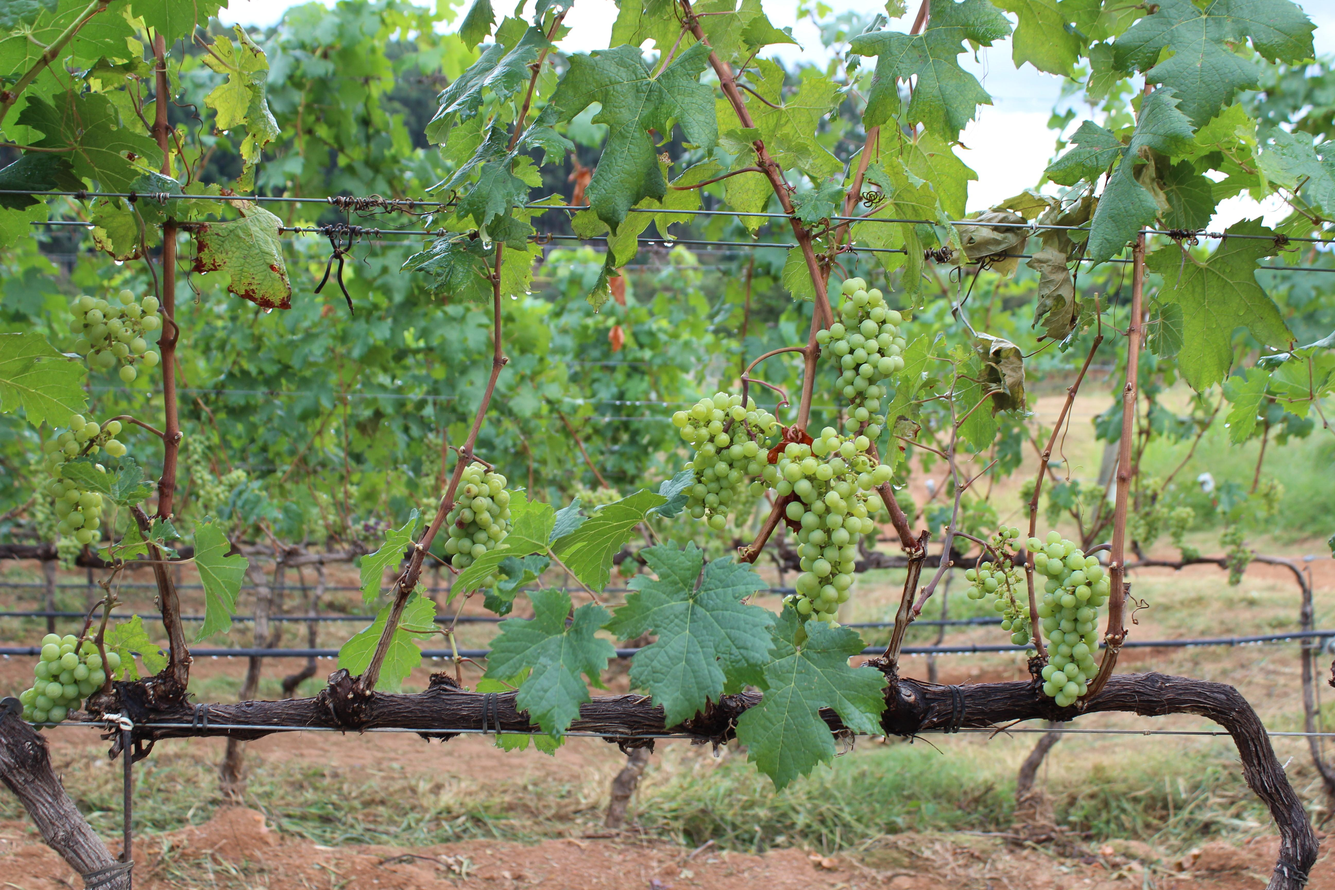leaf: (551, 44, 717, 232), (607, 543, 774, 726), (738, 607, 886, 788), (1113, 0, 1314, 126), (1146, 220, 1292, 391), (850, 0, 1011, 142), (485, 589, 615, 736), (1086, 88, 1194, 263), (716, 61, 842, 182), (425, 27, 550, 144), (18, 93, 162, 192), (553, 489, 667, 591), (450, 491, 556, 599), (201, 25, 279, 168), (193, 201, 291, 309), (0, 332, 87, 425), (997, 0, 1099, 75), (899, 131, 977, 219), (1260, 127, 1335, 217), (194, 523, 249, 641), (402, 236, 493, 303), (377, 592, 436, 691), (359, 509, 420, 602), (1045, 121, 1124, 185), (885, 335, 934, 435), (457, 158, 529, 226), (1026, 247, 1077, 340), (61, 456, 153, 506), (134, 0, 226, 46), (104, 615, 168, 681), (955, 354, 998, 451), (484, 554, 550, 615), (1157, 161, 1215, 229), (338, 603, 392, 675), (1223, 367, 1269, 443), (0, 153, 83, 192), (793, 179, 844, 225), (649, 470, 696, 518), (1146, 303, 1183, 357), (99, 522, 148, 561), (781, 246, 815, 302), (458, 0, 495, 49), (0, 0, 58, 31), (549, 498, 586, 542), (496, 733, 565, 755), (737, 174, 772, 200), (883, 438, 904, 467), (0, 194, 38, 209), (747, 204, 763, 210), (914, 215, 935, 219), (682, 471, 693, 478), (729, 196, 736, 206), (882, 135, 887, 138), (933, 8, 935, 15), (757, 192, 760, 196), (737, 207, 742, 209), (891, 173, 894, 176), (882, 130, 885, 133), (493, 234, 495, 237), (887, 167, 889, 170), (0, 171, 3, 173), (507, 538, 508, 542), (730, 180, 731, 182), (571, 529, 572, 530), (498, 239, 504, 239), (285, 307, 285, 307), (479, 690, 480, 690), (902, 199, 902, 199), (730, 149, 730, 150)
